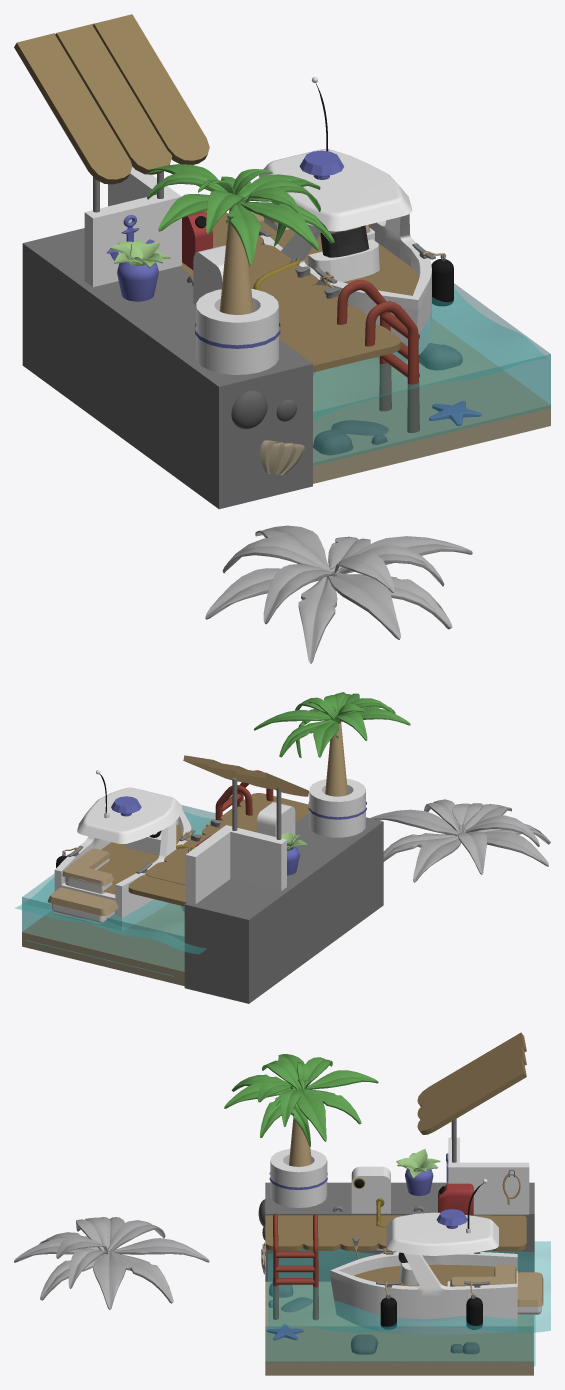
Rendered from BoatScenePainter.fbx.
The picture shows the model from 3 angles, top to bottom: view 1: azimuth 30°, elevation 25°; view 2: azimuth 150°, elevation 25°; view 3: azimuth 270°, elevation 25°; orthographic projection. The views are drawn at different scales.
Visible parts, largest first — view 1: ConcreteShellDock_WB, Sand_WB1, Water_Base, Water1, pCube17, pCube15, DockBooth_WB, BoatCover_2, pCube16, TreePot_WB, polySurface8, WoodDock_WB1 (+34 smaller); view 2: ConcreteShellDock_WB, Sand_WB1, Water_Base, DockBooth_WB, Water1, BoatCover_2, polySurface8, TreePot_WB, BoatFloor, pCube19, WoodDock_WB13, TreeTrunk_WB (+28 smaller); view 3: Sand_WB1, polySurface8, Water_Base, Water1, ConcreteShellDock_WB, BoatCover_2, DockBooth_WB, TreePot_WB, pCube15, WhiteSqaure_WB, pCube17, BoatFloor (+33 smaller).
Part boxes in pixels (x1,y1,x2,y2): ConcreteShellDock_WB: (22, 228, 312, 509); Sand_WB1: (313, 318, 550, 483); Water_Base: (313, 283, 550, 465); Water1: (313, 289, 546, 419); pCube17: (14, 33, 132, 184); pCube15: (93, 14, 209, 164); DockBooth_WB: (84, 167, 181, 287); BoatCover_2: (259, 149, 412, 231); pCube16: (55, 23, 172, 174); TreePot_WB: (196, 289, 278, 374); polySurface8: (260, 214, 431, 361); WoodDock_WB1: (287, 325, 400, 372); ConcreteShellDock_WB: (184, 813, 383, 1003); Sand_WB1: (22, 903, 184, 986); Water_Base: (22, 805, 215, 971); DockBooth_WB: (185, 825, 286, 904); Water1: (15, 811, 215, 953); BoatCover_2: (77, 787, 182, 843); polySurface8: (54, 809, 191, 930); TreePot_WB: (309, 778, 365, 837); BoatFloor: (65, 824, 182, 894); pCube19: (47, 887, 118, 915); WoodDock_WB13: (128, 875, 186, 906); TreeTrunk_WB: (325, 721, 347, 796); Sand_WB1: (265, 1281, 533, 1375); polySurface8: (330, 1252, 517, 1334); Water_Base: (265, 1326, 533, 1362); Water1: (268, 1241, 550, 1332); ConcreteShellDock_WB: (265, 1182, 534, 1281); BoatCover_2: (386, 1212, 498, 1255); DockBooth_WB: (448, 1137, 529, 1214); TreePot_WB: (270, 1149, 327, 1207); pCube15: (417, 1058, 526, 1134); WhiteSqaure_WB: (351, 1166, 390, 1213); pCube17: (417, 1032, 526, 1106); BoatFloor: (354, 1264, 516, 1286).
Bounding box in the file's own units: 9.6 × 7.02 × 14.19.
